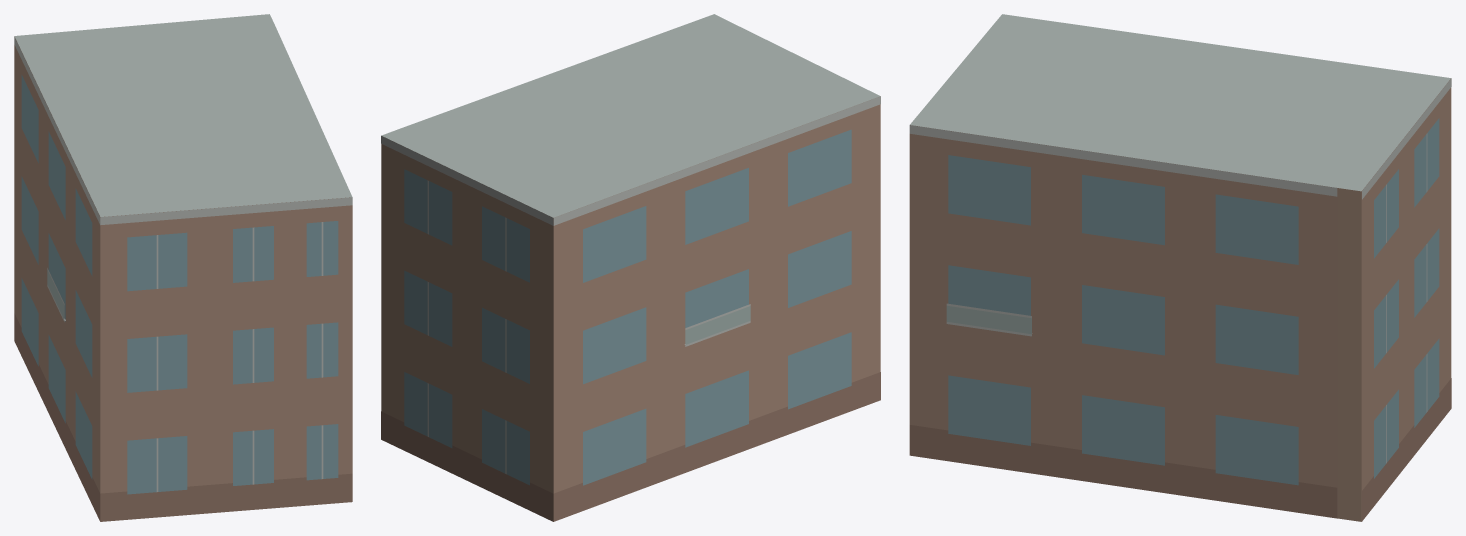
Rendered from survey-upis-32929961.glb.
The picture shows the model from 3 angles, left to right: view 1: azimuth 30°, elevation 25°; view 2: azimuth 150°, elevation 25°; view 3: azimuth 270°, elevation 25°; orthographic projection. The views are drawn at different scales.
Visible parts, largest first — view 1: survey-upis-32929961.tmp; view 2: survey-upis-32929961.tmp; view 3: survey-upis-32929961.tmp.
Part boxes in pixels (x1,y1,x2,y2): survey-upis-32929961.tmp: [14, 14, 352, 521]; survey-upis-32929961.tmp: [381, 14, 880, 521]; survey-upis-32929961.tmp: [909, 14, 1451, 521].
Size of the model in its own units: 10.53 by 9.15 by 13.6.
